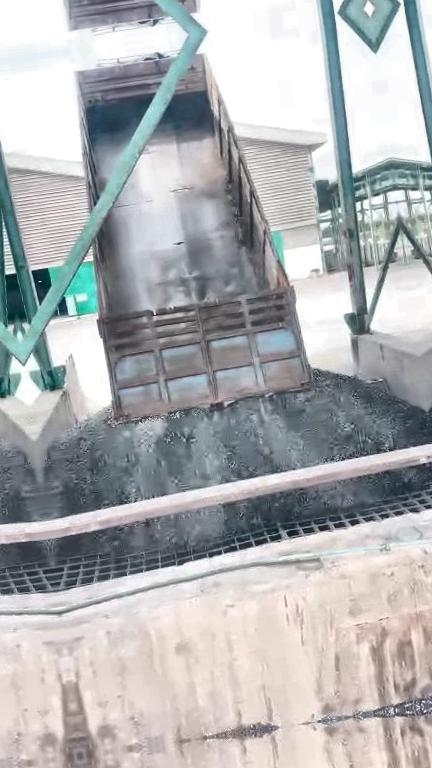gravel: (42, 370, 432, 517), (52, 466, 432, 559), (356, 690, 432, 716)
